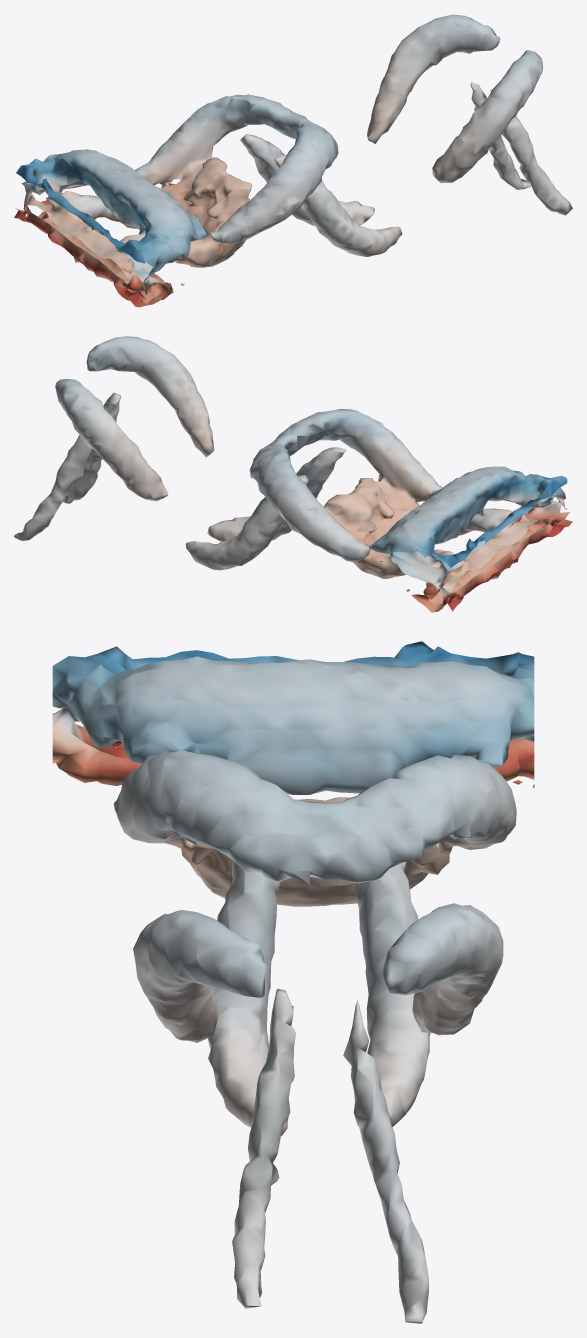
3 views of the same model, one above another, from view 1: azimuth 30°, elevation 25°; view 2: azimuth 150°, elevation 25°; view 3: azimuth 270°, elevation 25° (orthographic). The views are drawn at different scales.
Size of the model in its own units: 5.61 by 2.02 by 2.5.
